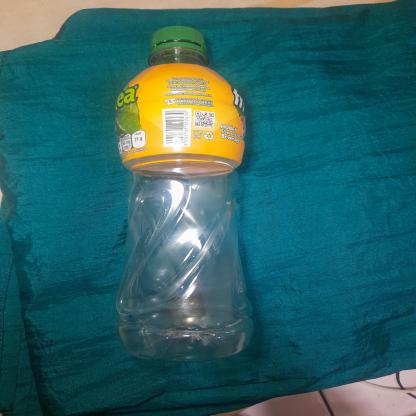bottle: (110, 22, 260, 367)
